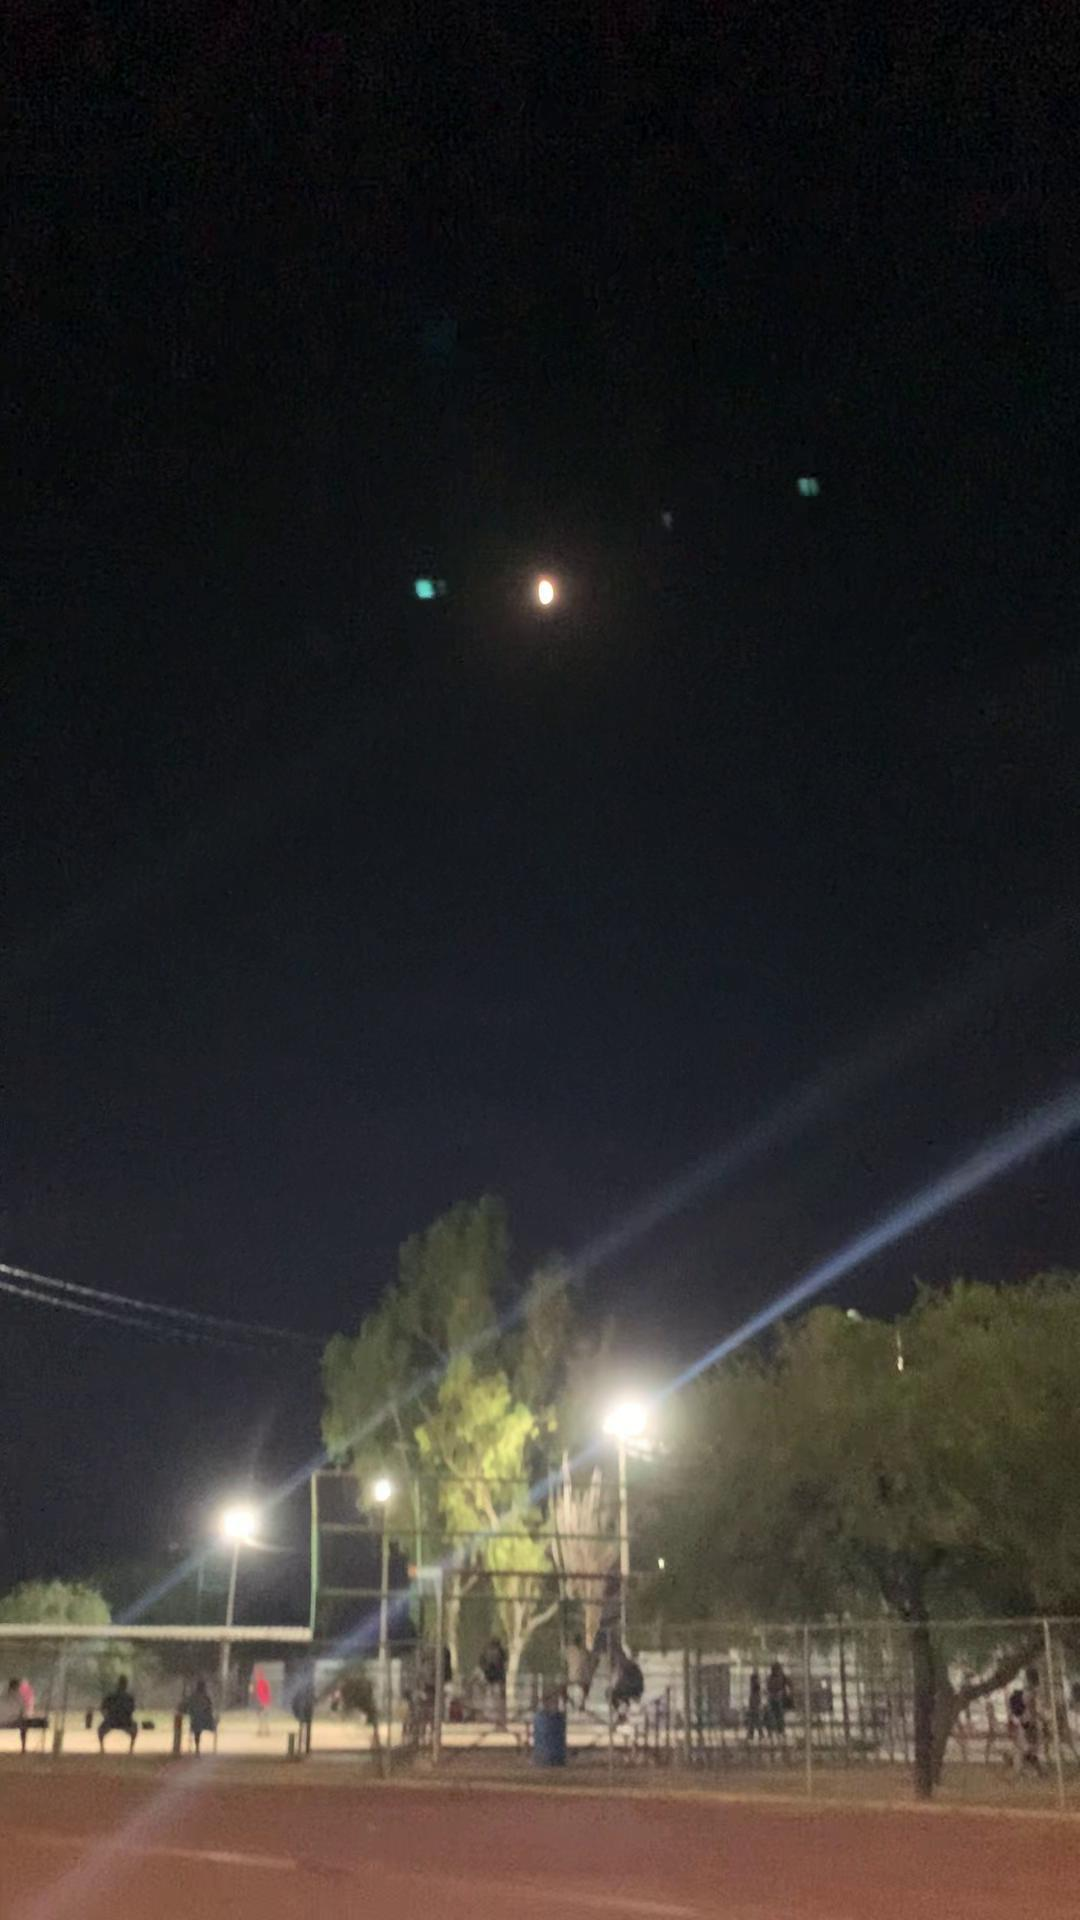moon: (514, 555, 583, 621)
